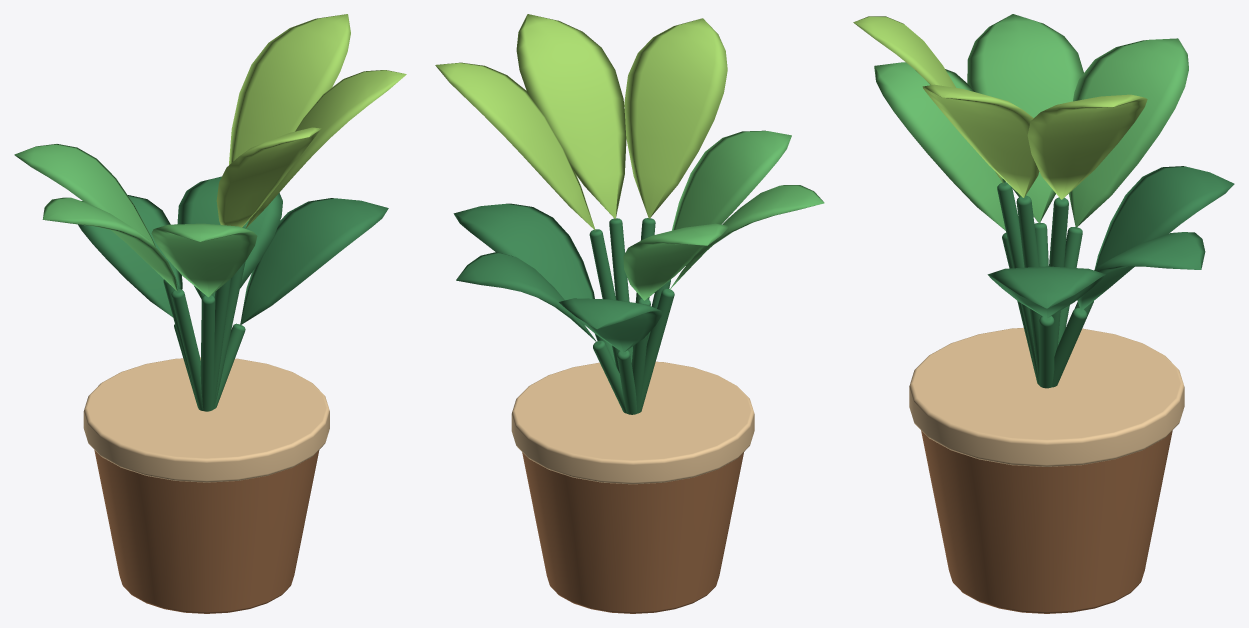
Rendered from planter.glb.
The picture shows the model from 3 angles, left to right: view 1: azimuth 30°, elevation 25°; view 2: azimuth 150°, elevation 25°; view 3: azimuth 270°, elevation 25°; orthographic projection. The views are drawn at different scales.
Parts seen in each view (by area): view 1: Tapered planter, Planter rim, Lance leaf 8, Lance leaf 0, Lance leaf 7, Lance leaf 2, Lance leaf 1, Lance leaf 5, Lance leaf 6, Lance leaf 3, Lance leaf 4, Plant petiole.007 (+4 smaller); view 2: Tapered planter, Planter rim, Lance leaf 2, Lance leaf 5, Lance leaf 8, Lance leaf 0, Lance leaf 7, Lance leaf 1, Lance leaf 6, Lance leaf 3, Lance leaf 4, Plant petiole.004 (+5 smaller); view 3: Tapered planter, Planter rim, Lance leaf 1, Lance leaf 4, Lance leaf 8, Lance leaf 7, Lance leaf 6, Lance leaf 5, Lance leaf 0, Lance leaf 3, Lance leaf 2, Plant petiole.002 (+5 smaller).
Boxes of the visible parts, x1,y1,x2,y2 form: Tapered planter: (94, 450, 319, 613); Planter rim: (83, 357, 329, 482); Lance leaf 8: (229, 14, 350, 164); Lance leaf 0: (240, 198, 388, 325); Lance leaf 7: (151, 223, 257, 297); Lance leaf 2: (216, 127, 321, 227); Lance leaf 1: (14, 144, 155, 246); Lance leaf 5: (245, 70, 406, 228); Lance leaf 6: (78, 195, 182, 317); Lance leaf 3: (177, 176, 282, 299); Lance leaf 4: (42, 197, 177, 290); Plant petiole.007: (200, 295, 215, 411); Tapered planter: (522, 452, 743, 613); Planter rim: (511, 361, 754, 484); Lance leaf 2: (624, 18, 727, 218); Lance leaf 5: (516, 14, 626, 218); Lance leaf 8: (435, 62, 595, 230); Lance leaf 0: (453, 203, 594, 300); Lance leaf 7: (672, 130, 791, 230); Lance leaf 1: (623, 223, 728, 300); Lance leaf 6: (559, 298, 661, 352); Lance leaf 3: (456, 252, 597, 342); Lance leaf 4: (669, 185, 824, 290); Plant petiole.004: (639, 288, 674, 412); Tapered planter: (921, 430, 1172, 613); Planter rim: (909, 327, 1184, 466); Lance leaf 1: (1069, 38, 1188, 227); Lance leaf 4: (967, 14, 1083, 223); Lance leaf 8: (1027, 94, 1147, 199); Lance leaf 7: (874, 62, 1005, 230); Lance leaf 6: (1094, 166, 1234, 269); Lance leaf 5: (922, 84, 1039, 197); Lance leaf 0: (987, 266, 1105, 318); Lance leaf 3: (1077, 232, 1205, 310); Lance leaf 2: (853, 16, 1003, 183); Plant petiole.002: (997, 182, 1038, 384).
Size of the model in its own units: 1.73 by 2.29 by 1.41.
